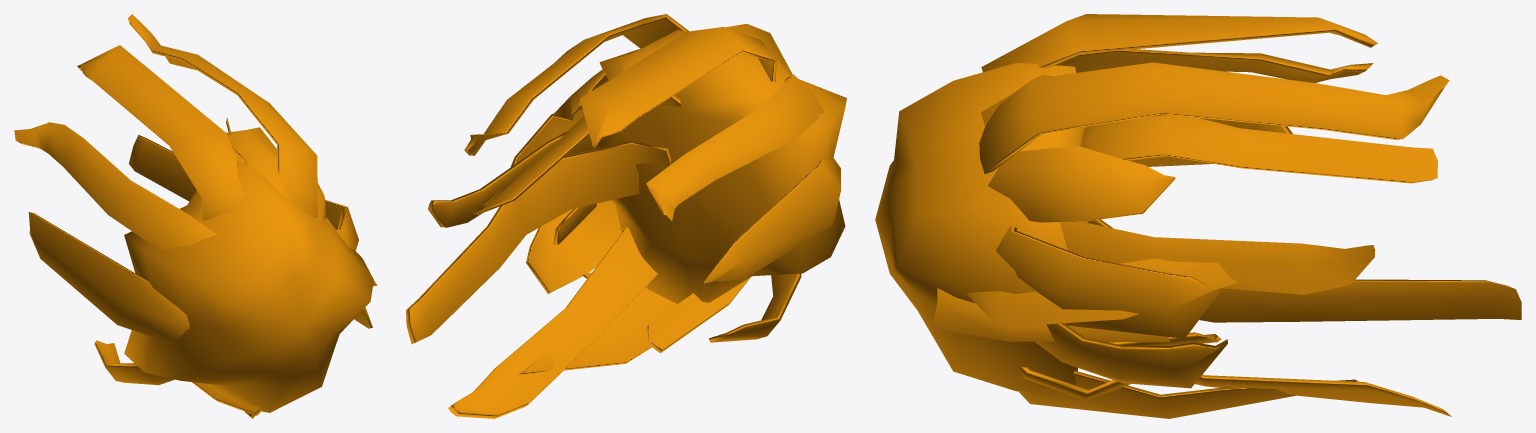
File: fireball.fbx
3 renders of one model, left to right at view 1: azimuth 30°, elevation 25°; view 2: azimuth 150°, elevation 25°; view 3: azimuth 270°, elevation 25°, orthographic. The views are drawn at different scales.
Visible parts, largest first — view 1: Firbal; view 2: Firbal; view 3: Firbal.
Boxes of the visible parts, x1=… form: Firbal: x1=14, y1=14, x2=377, y2=418; Firbal: x1=406, y1=14, x2=846, y2=418; Firbal: x1=875, y1=14, x2=1521, y2=418.
Size of the model in its own units: 1.57 by 1.75 by 2.72.
